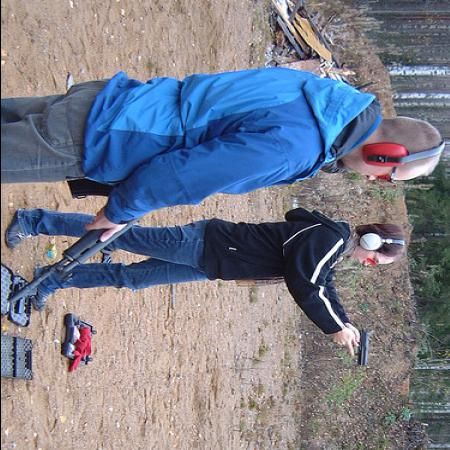Pistol: (353, 324, 371, 366)
